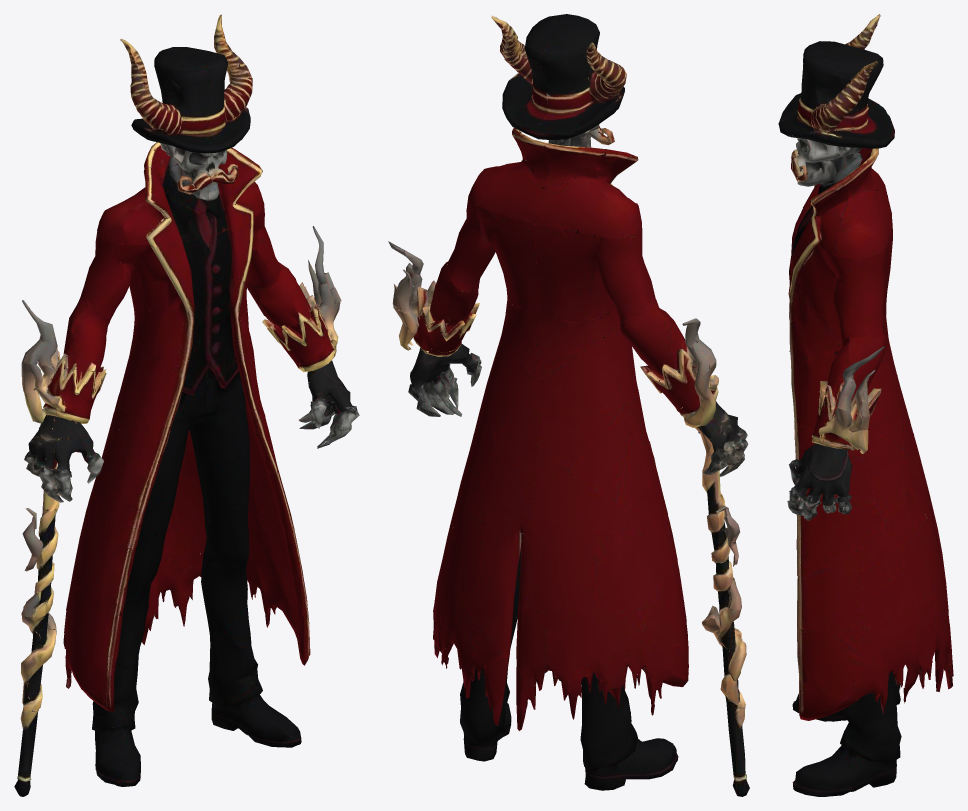
The model's file is 02_demon_ringmaster.glb.
The picture shows the model from 3 angles, left to right: view 1: azimuth 30°, elevation 25°; view 2: azimuth 150°, elevation 25°; view 3: azimuth 270°, elevation 25°; orthographic projection. The views are drawn at different scales.
Parts seen in each view (by area): view 1: mesh_node; view 2: mesh_node; view 3: mesh_node.
Part boxes in pixels (<box>): mesh_node: <box>14,14,359,796</box>; mesh_node: <box>388,14,749,796</box>; mesh_node: <box>778,14,953,796</box>.
Size of the model in its own units: 0.9225 by 1.91 by 0.4234.
1 material, 1 textured.
